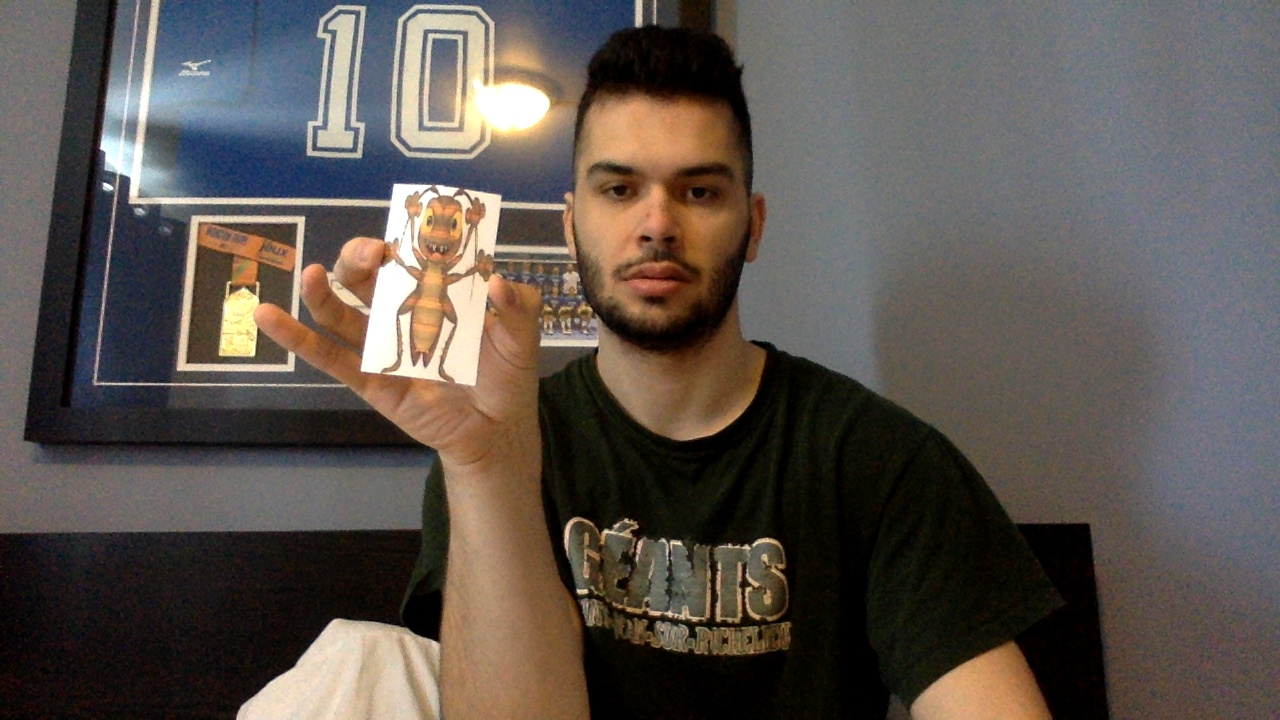Angry: (378, 184, 494, 389)
